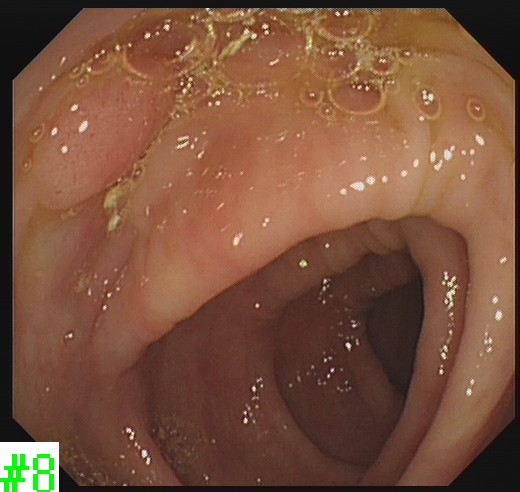adenoma: (29, 55, 172, 210)
